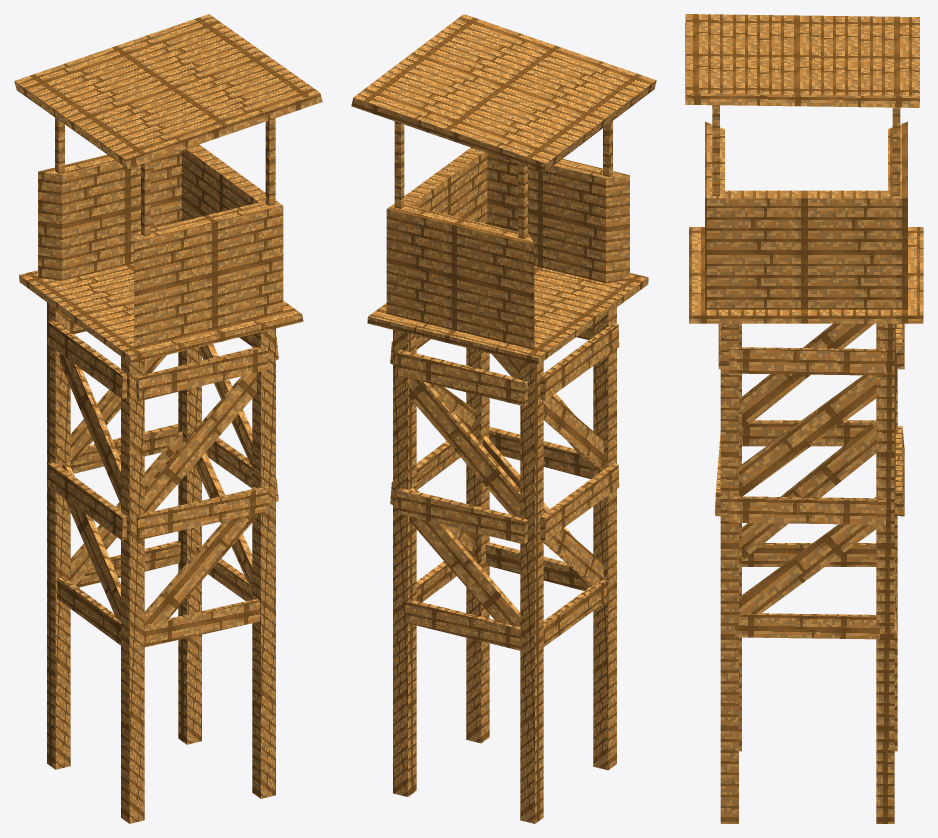
File: BLOCKYGON_BEACH GUARD TOWER.fbx
3 views of the same model, side by side, from view 1: azimuth 30°, elevation 25°; view 2: azimuth 150°, elevation 25°; view 3: azimuth 270°, elevation 25° (orthographic). The views are drawn at different scales.
Visible parts, largest first — view 1: BLOCKYGON_BEACH_GUARD_TOWER; view 2: BLOCKYGON_BEACH_GUARD_TOWER; view 3: BLOCKYGON_BEACH_GUARD_TOWER.
Part boxes in pixels (left/top/right/bottom): BLOCKYGON_BEACH_GUARD_TOWER: left=14, top=14, right=322, bottom=823; BLOCKYGON_BEACH_GUARD_TOWER: left=351, top=14, right=656, bottom=823; BLOCKYGON_BEACH_GUARD_TOWER: left=685, top=14, right=923, bottom=823.
Size of the model in its own units: 238 by 817 by 237.
